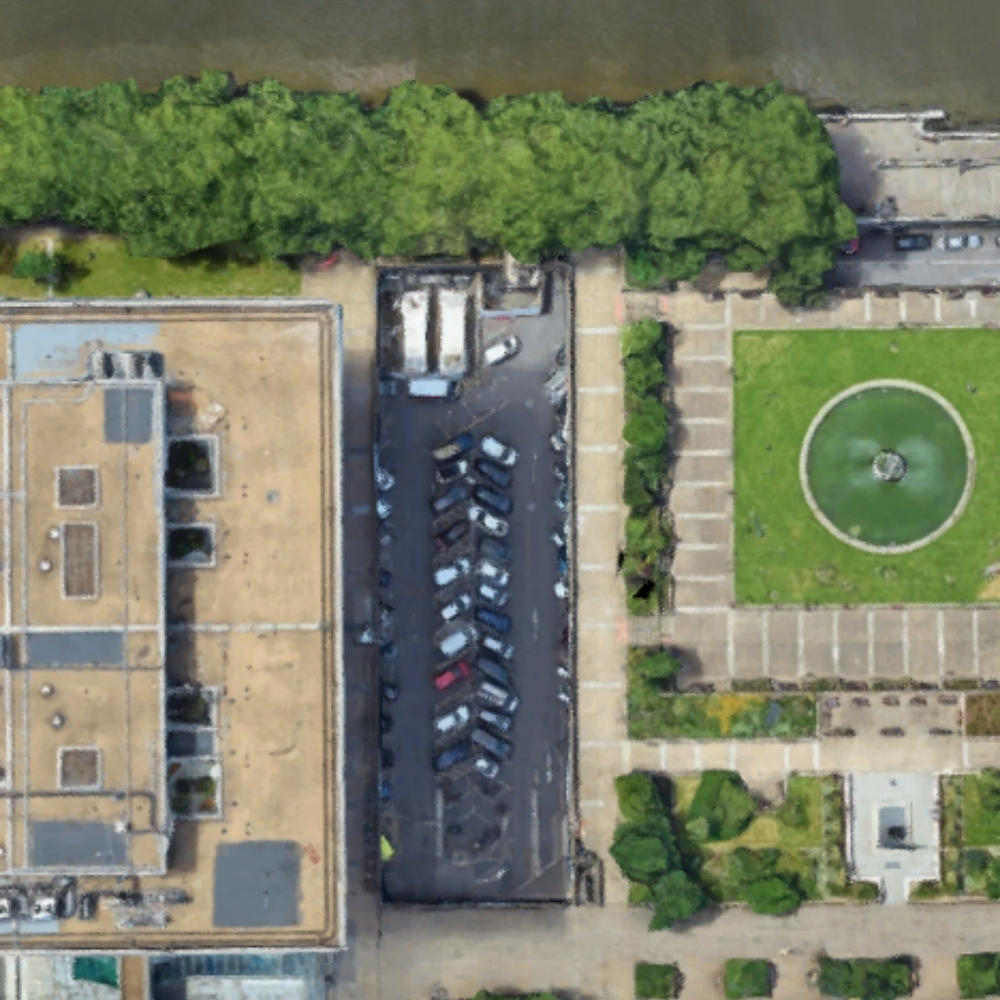parking: (380, 270, 570, 900)
